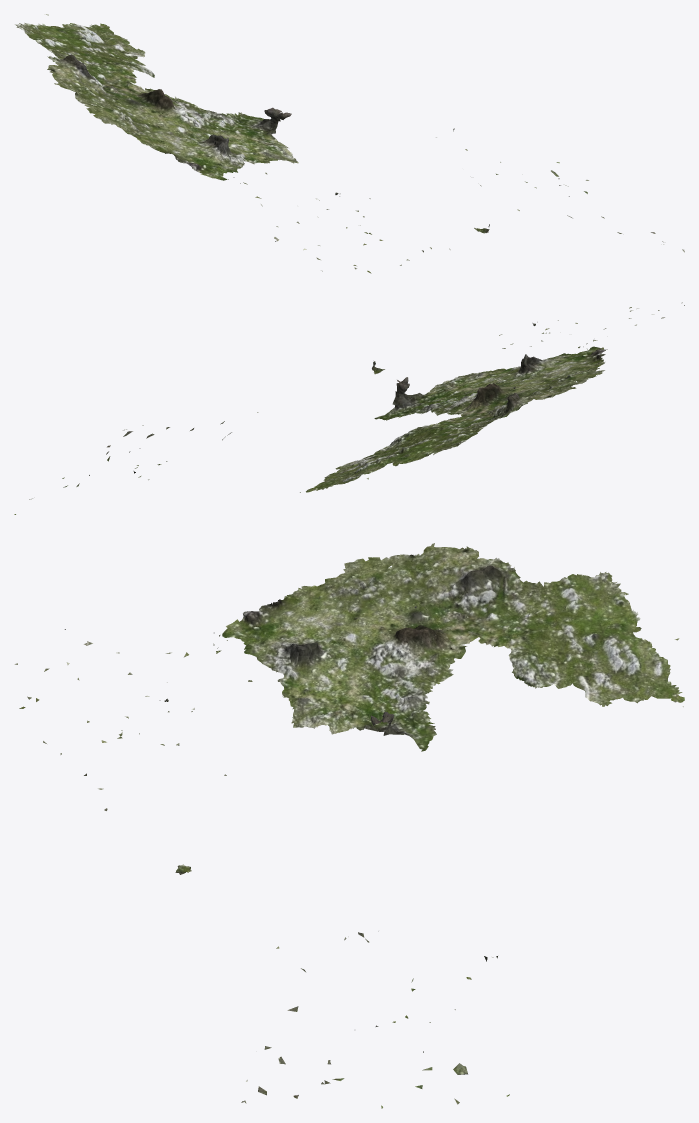
3 views of the same model, one above another, from view 1: azimuth 30°, elevation 25°; view 2: azimuth 150°, elevation 25°; view 3: azimuth 270°, elevation 25° (orthographic). The views are drawn at different scales.
Bounding box in the file's own units: 47.21 × 20.03 × 45.11.
1 material, 1 textured.
